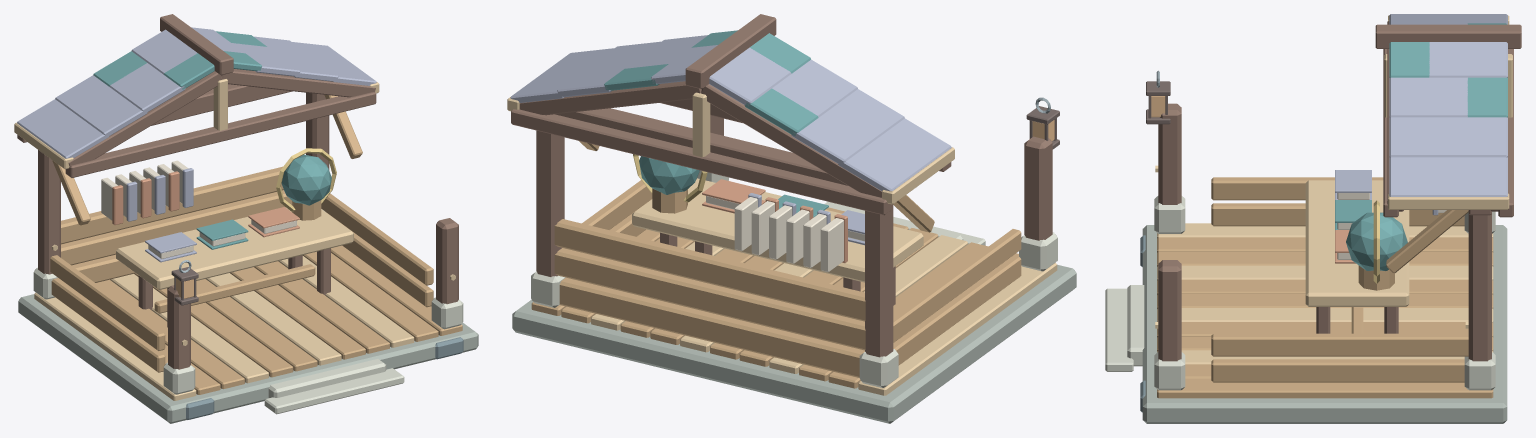
Rendered from research_hut.fbx.
The picture shows the model from 3 angles, left to right: view 1: azimuth 30°, elevation 25°; view 2: azimuth 150°, elevation 25°; view 3: azimuth 270°, elevation 25°; orthographic projection. The views are drawn at different scales.
Visible parts, largest first — view 1: research_hut_mesh; view 2: research_hut_mesh; view 3: research_hut_mesh.
Boxes of the visible parts, x1,y1,x2,y2 form: research_hut_mesh: [14, 14, 478, 423]; research_hut_mesh: [507, 14, 1076, 423]; research_hut_mesh: [1105, 14, 1521, 423].
Bounding box in the file's own units: 3.37 × 2.62 × 3.22.
